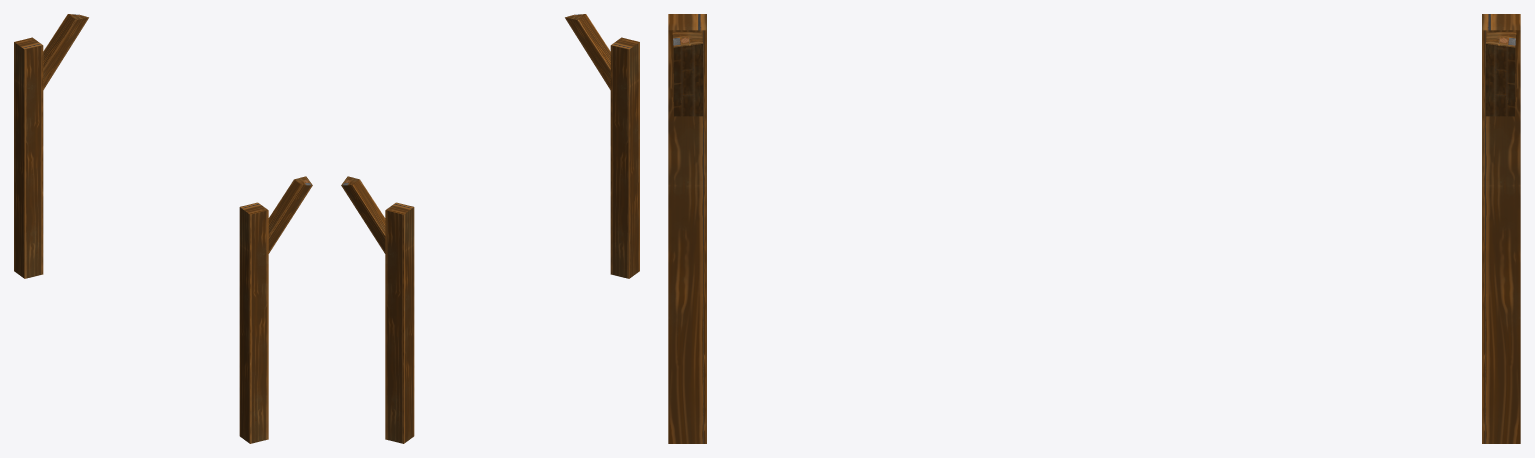
3 views of the same model, side by side, from view 1: azimuth 30°, elevation 25°; view 2: azimuth 150°, elevation 25°; view 3: azimuth 270°, elevation 25° (orthographic). The views are drawn at different scales.
Parts seen in each view (by area): view 1: Cube.833; view 2: Cube.833; view 3: Cube.833.
Boxes of the visible parts, box(x1,y1,x2,y2) form: Cube.833: box(14, 14, 312, 443); Cube.833: box(341, 14, 639, 443); Cube.833: box(668, 14, 1520, 443).
Bounding box in the file's own units: 145 × 518 × 904.
Materials: 1 (1 with a texture image).
